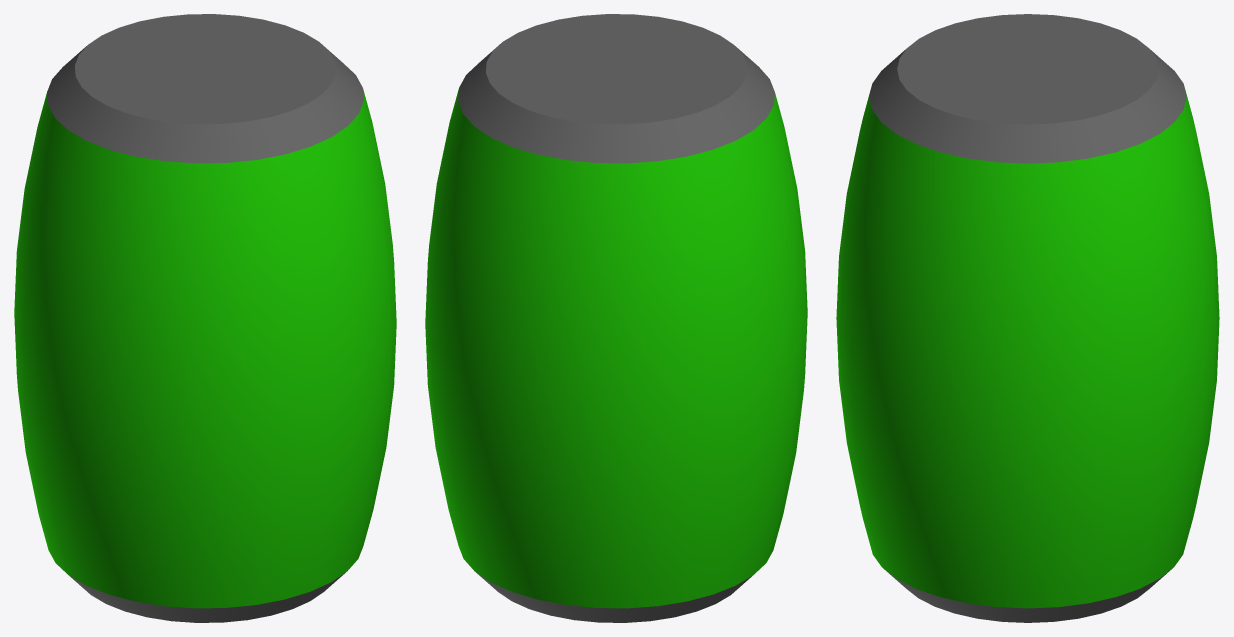
File: 3D_Can_1.FBX
The picture shows the model from 3 angles, left to right: view 1: azimuth 30°, elevation 25°; view 2: azimuth 150°, elevation 25°; view 3: azimuth 270°, elevation 25°; orthographic projection.
Parts seen in each view (by area): view 1: 3D_Can; view 2: 3D_Can; view 3: 3D_Can.
Part boxes in pixels (x1,y1,x2,y2): 3D_Can: [14, 14, 396, 622]; 3D_Can: [425, 14, 807, 622]; 3D_Can: [836, 14, 1219, 622].
Bounding box in the file's own units: 148 × 213 × 148.
